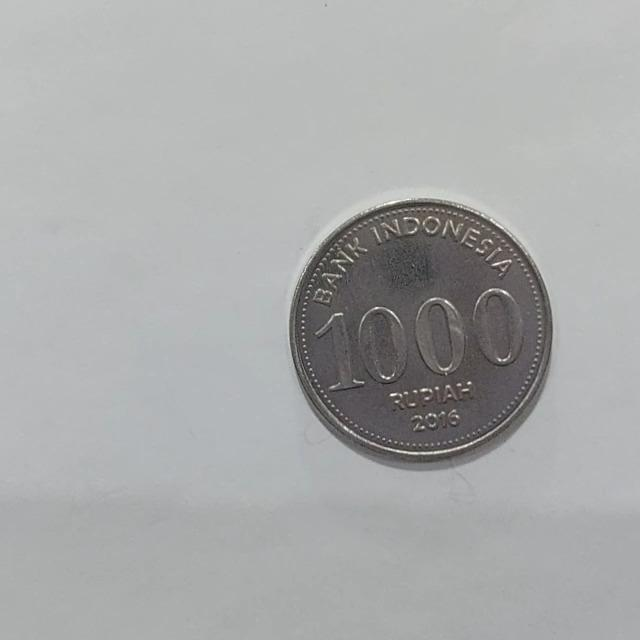Rp100: (287, 195, 554, 470)
